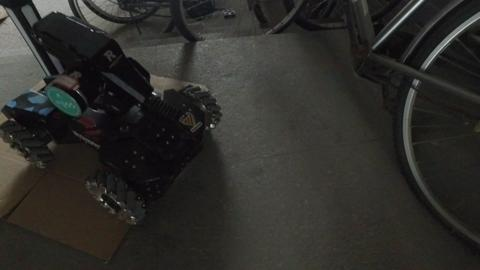chariot: (1, 1, 223, 225)
